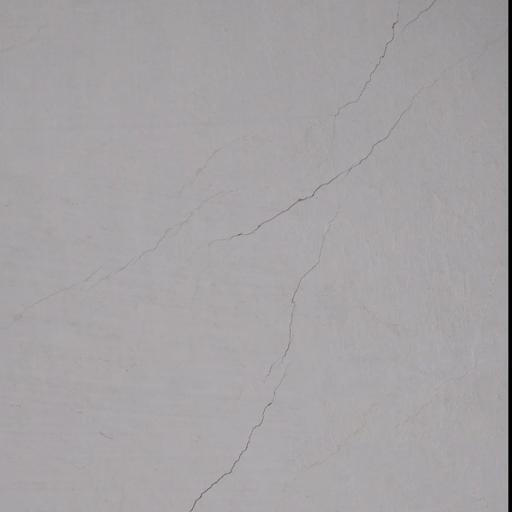minor_crack: (195, 0, 486, 512)
